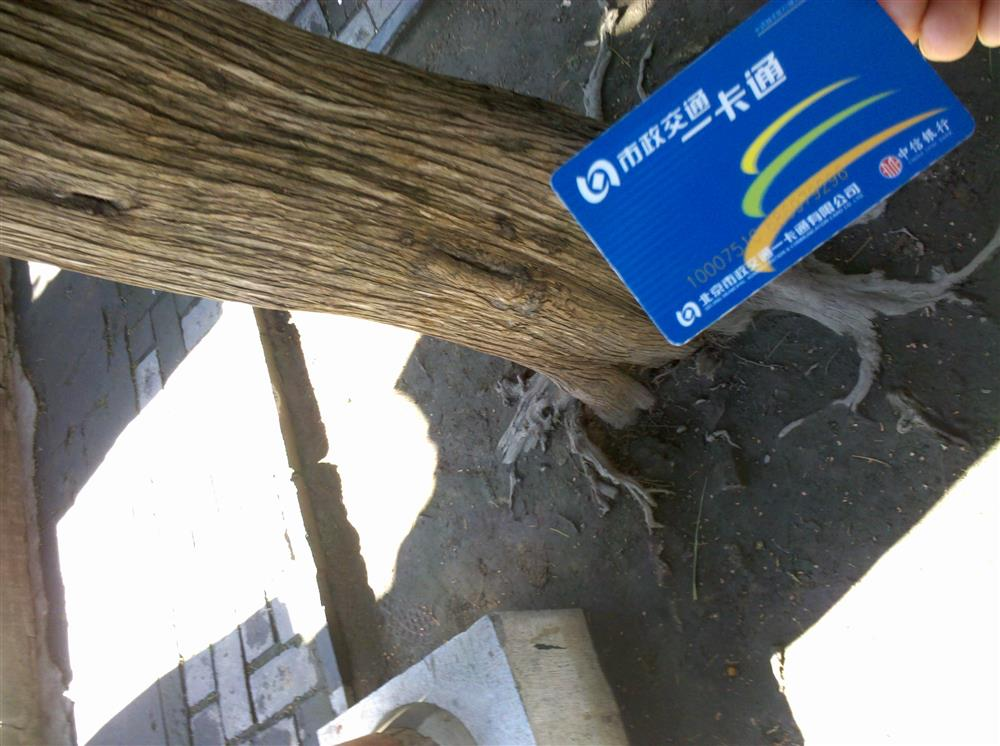bus_card: (550, 4, 977, 347)
